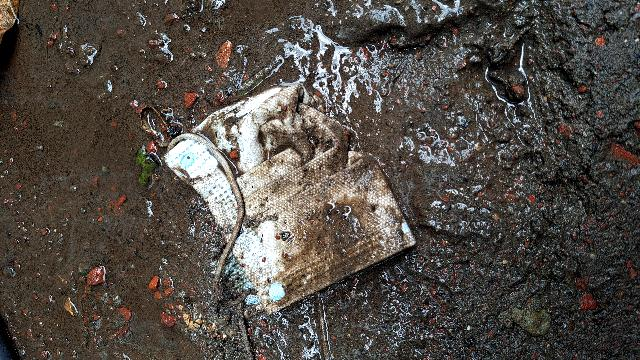mask: (153, 76, 445, 343)
